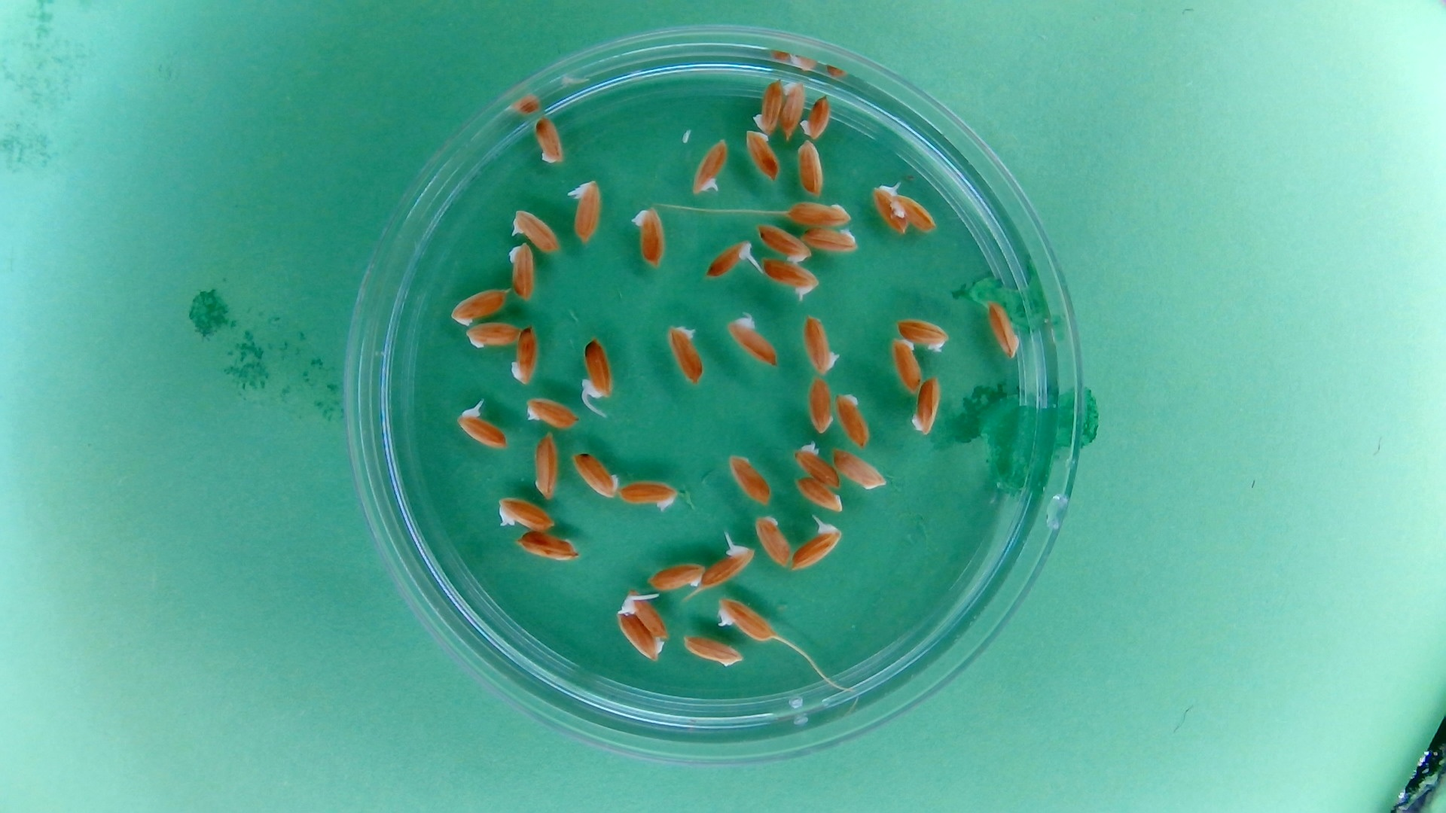no: (725, 310, 781, 370), (715, 595, 777, 643), (664, 320, 706, 387), (829, 446, 889, 492), (628, 203, 669, 270), (726, 451, 773, 509), (568, 449, 621, 500), (447, 285, 510, 327), (800, 311, 840, 377), (614, 611, 665, 662), (983, 297, 1023, 362), (755, 220, 814, 264), (792, 439, 841, 490), (894, 312, 952, 355), (833, 390, 873, 451), (909, 372, 945, 437), (496, 494, 556, 533), (616, 477, 681, 513), (752, 512, 792, 569), (782, 198, 853, 230), (888, 336, 925, 397), (890, 187, 938, 234), (514, 530, 582, 563), (508, 322, 542, 387), (531, 430, 562, 501), (682, 635, 746, 669), (798, 223, 861, 257), (743, 129, 782, 183), (791, 474, 844, 513), (506, 239, 538, 302), (530, 111, 566, 167), (524, 394, 580, 430), (751, 77, 785, 136), (805, 373, 836, 436), (778, 78, 809, 140), (463, 320, 523, 352), (798, 91, 835, 142), (794, 139, 826, 196), (645, 562, 705, 592)
yes: (789, 521, 843, 572), (698, 544, 755, 589), (508, 206, 561, 253), (760, 257, 819, 299), (688, 139, 728, 199), (621, 589, 669, 638), (457, 407, 509, 452), (569, 177, 603, 244), (580, 336, 615, 401), (703, 238, 755, 280), (871, 181, 909, 233)
